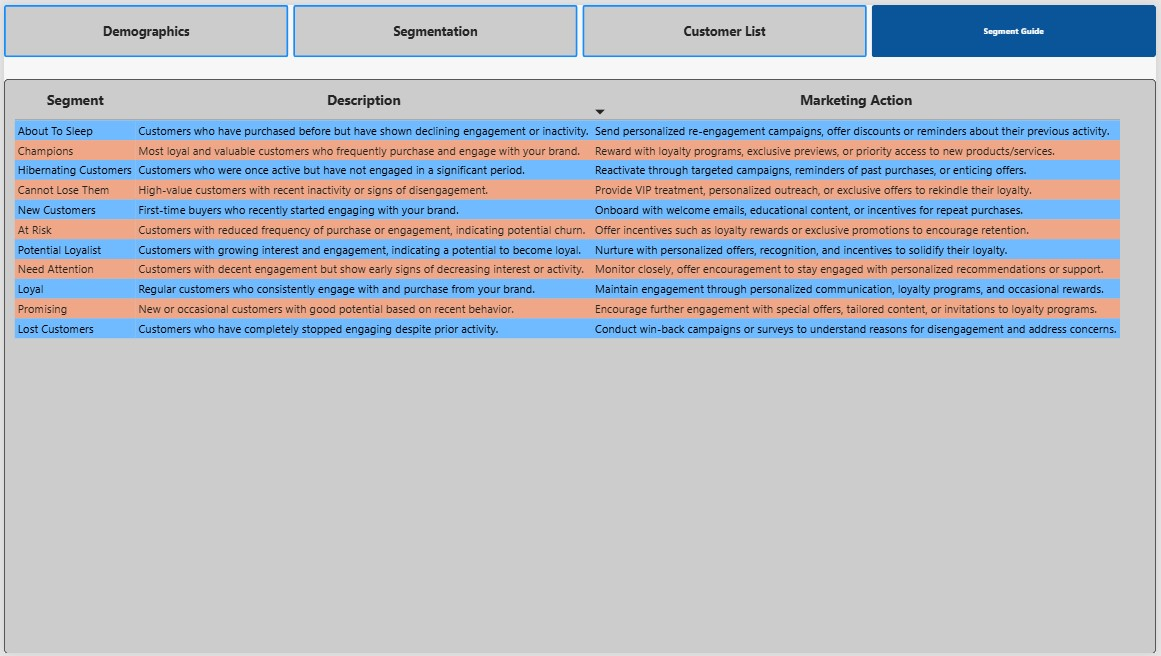

The page's visual inventory and layout, read from the dashboard file:
{"tool":"powerbi","page":{"name":"Segment Guide","canvas":[1920,1080],"ordinal":3},"visuals":[{"type":"tableEx","fields":{"Values":["Segment Description.Segment","Segment Description.Description","Segment Description.Marketing Action"]},"box":[0,122.5,1920,957.5],"z":0},{"type":"pageNavigator","box":[0,0,1920,87.5],"z":1000}]}

Visuals, with their boxes in screenshot pixels (x1, y1, x2, y2), scaled from the page's 1920x1080 canvas onto the 1161x656 screenshot:
tableEx - Segment Description.Segment x Segment Description.Description: BBox(0, 74, 1160, 655)
pageNavigator: BBox(0, 0, 1160, 53)
